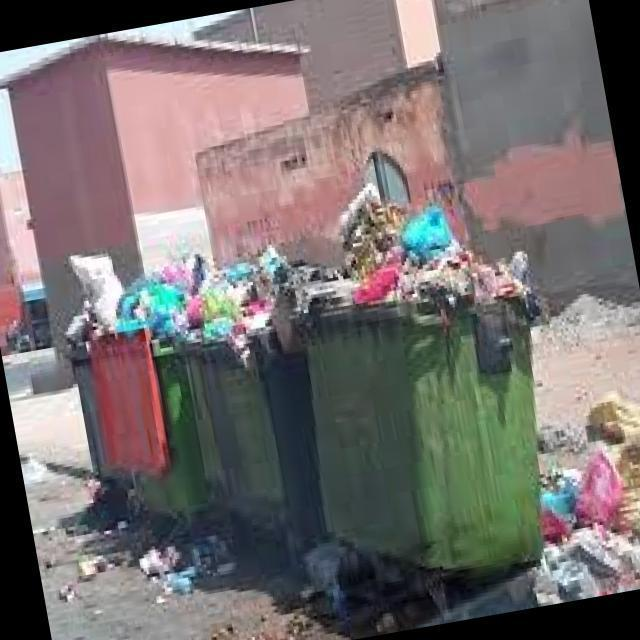garbage: (29, 170, 640, 640)
